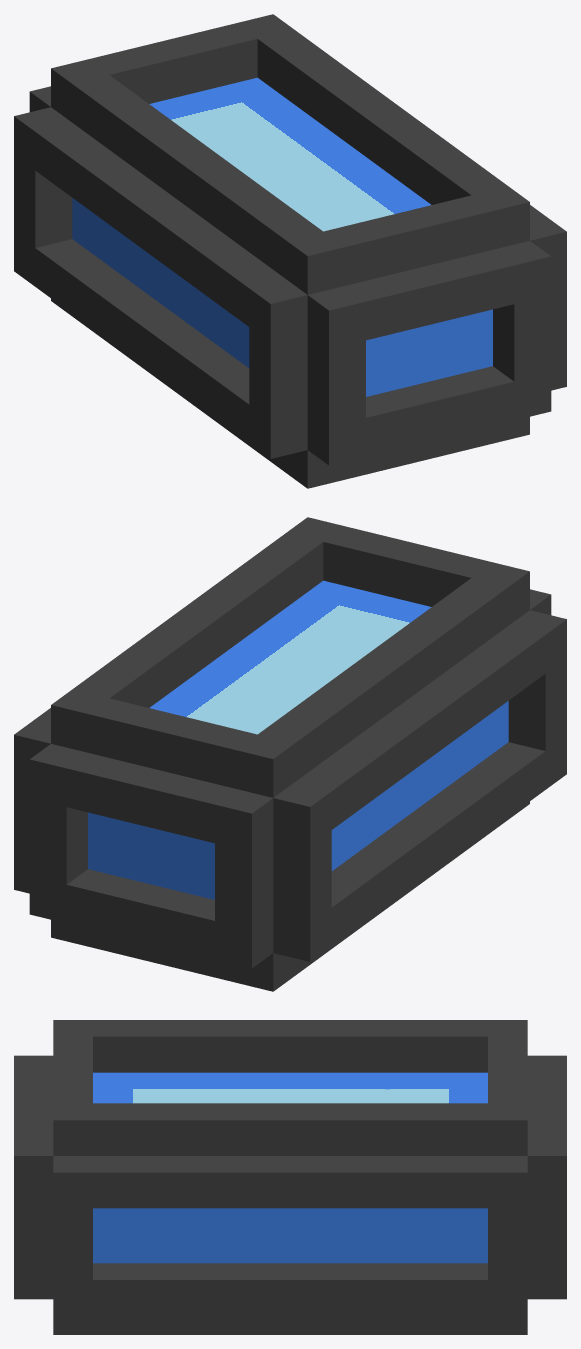
File: EnergyPickup.fbx
3 renders of one model, top to bottom at view 1: azimuth 30°, elevation 25°; view 2: azimuth 150°, elevation 25°; view 3: azimuth 270°, elevation 25°, orthographic. The views are drawn at different scales.
Parts seen in each view (by area): view 1: Matrix_1; view 2: Matrix_1; view 3: Matrix_1.
Boxes of the visible parts, x1,y1,x2,y2 form: Matrix_1: [14, 14, 566, 488]; Matrix_1: [14, 517, 566, 991]; Matrix_1: [14, 1020, 566, 1334].
Bounding box in the file's own units: 8 × 6 × 14.
1 material, 1 textured.
